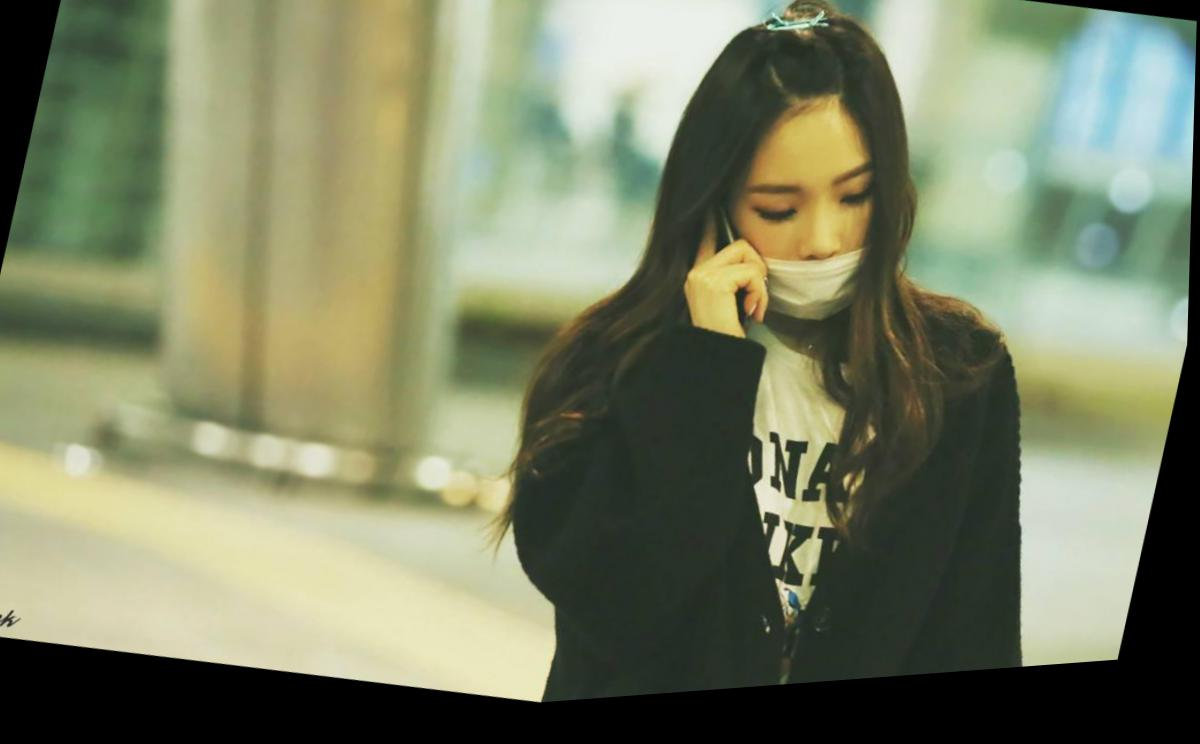WRONG: (715, 130, 896, 351)
